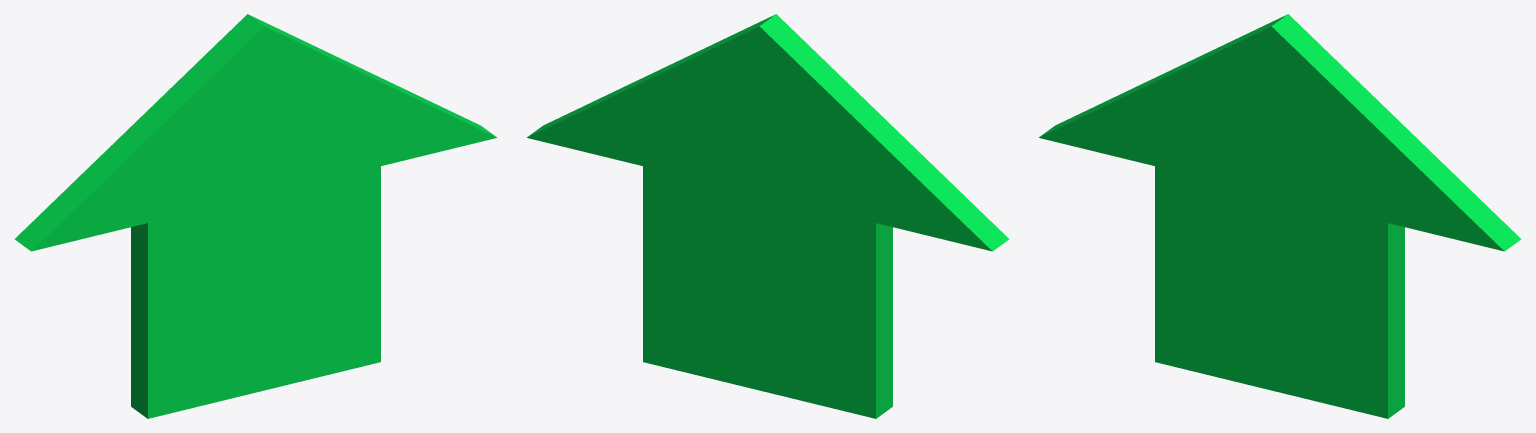
File: arrow.fbx
The picture shows the model from 3 angles, left to right: view 1: azimuth 30°, elevation 25°; view 2: azimuth 150°, elevation 25°; view 3: azimuth 330°, elevation 25°; orthographic projection.
Parts seen in each view (by area): view 1: Cube; view 2: Cube; view 3: Cube.
Part boxes in pixels (left/top/right/bottom): Cube: left=14, top=14, right=496, bottom=418; Cube: left=527, top=14, right=1009, bottom=418; Cube: left=1039, top=14, right=1521, bottom=418.
Bounding box in the file's own units: 400 × 299 × 25.
